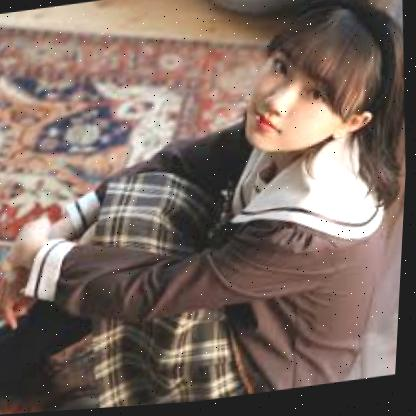person: (240, 6, 396, 152)
